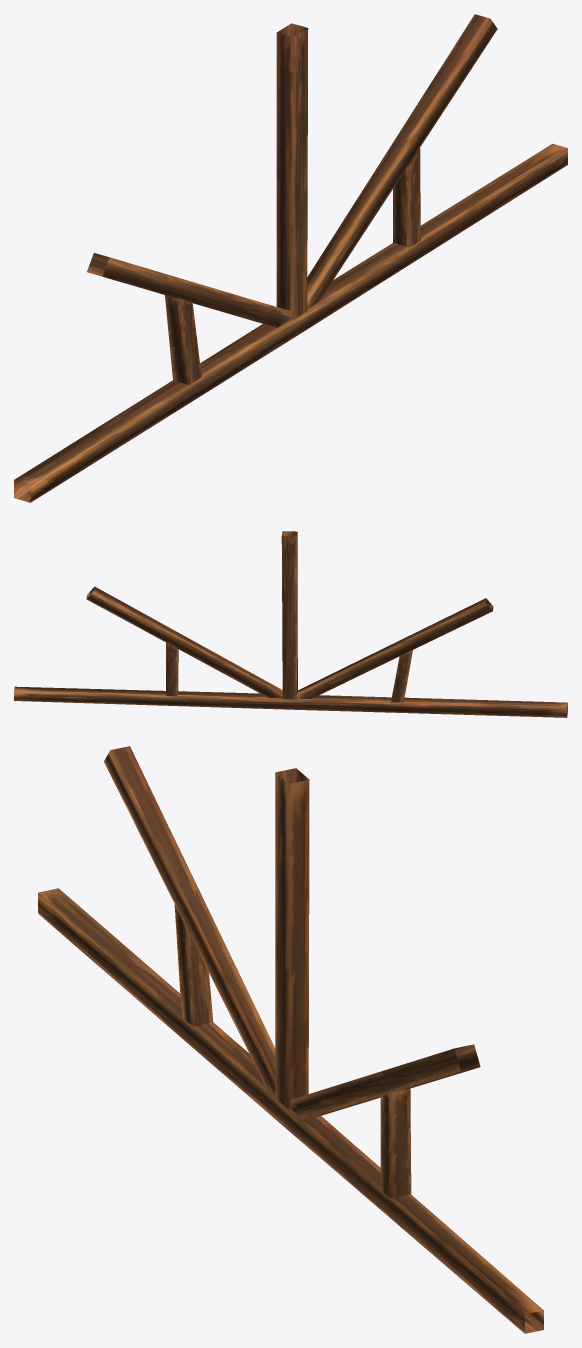
The model's file is SWORDLIGHT20_JAILCEILBRACKET20.fbx.
3 renders of one model, top to bottom at view 1: azimuth 30°, elevation 25°; view 2: azimuth 150°, elevation 25°; view 3: azimuth 270°, elevation 25°, orthographic. The views are drawn at different scales.
Parts seen in each view (by area): view 1: SWORDLIGHT20_JAILCEILBRACKET20; view 2: SWORDLIGHT20_JAILCEILBRACKET20; view 3: SWORDLIGHT20_JAILCEILBRACKET20.
Boxes of the visible parts, box(x1,y1,x2,y2) form: SWORDLIGHT20_JAILCEILBRACKET20: box(14, 14, 567, 502); SWORDLIGHT20_JAILCEILBRACKET20: box(14, 531, 567, 717); SWORDLIGHT20_JAILCEILBRACKET20: box(38, 746, 543, 1333).
Size of the model in its own units: 130603 by 49666 by 65676.
Materials: 1 (1 with a texture image).
